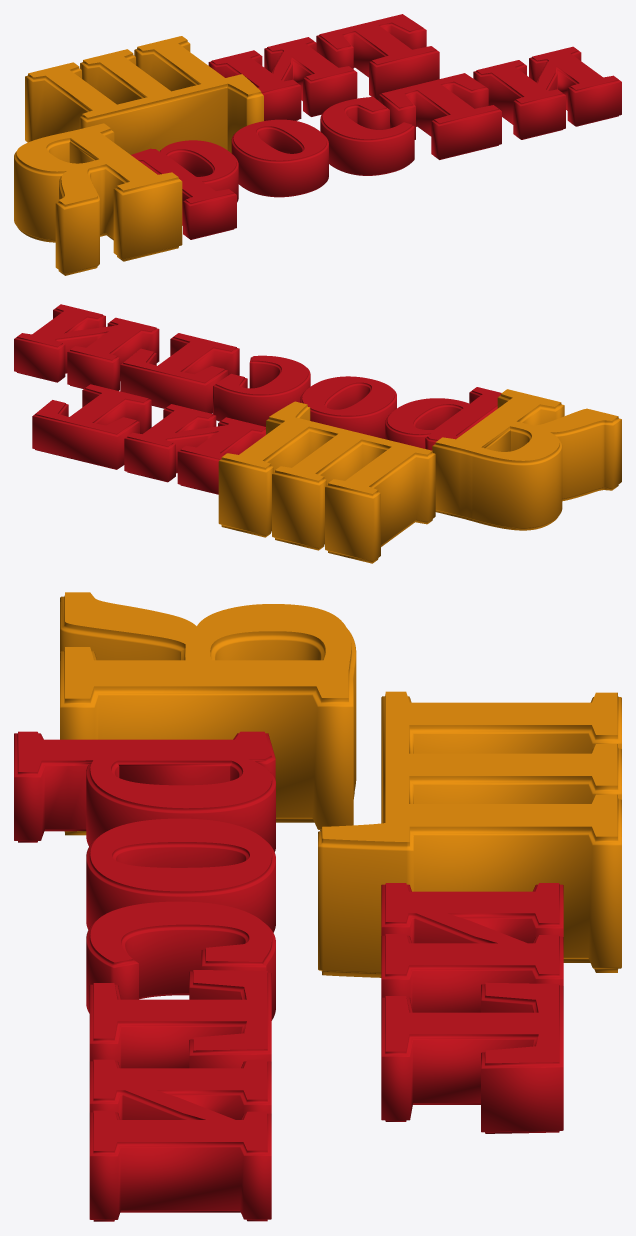
Rendered from shield_yar.glb.
3 views of the same model, one above another, from view 1: azimuth 30°, elevation 25°; view 2: azimuth 150°, elevation 25°; view 3: azimuth 270°, elevation 25° (orthographic). The views are drawn at different scales.
Visible parts, largest first — view 1: sh, ya, i2, i, t2, t, o, p, c; view 2: sh, ya, i2, i, t, t2, c, o, p; view 3: sh, ya, i2, p, t, i, o, t2, c.
Boxes of the visible parts, x1,y1,x2,y2 form: sh: [25, 36, 263, 154]; ya: [14, 123, 182, 275]; i2: [473, 46, 621, 139]; i: [208, 37, 357, 120]; t2: [378, 73, 501, 159]; t: [316, 14, 439, 100]; o: [231, 119, 328, 197]; p: [131, 140, 238, 239]; c: [320, 96, 414, 175]; sh: [218, 401, 435, 563]; ya: [432, 389, 621, 530]; i2: [14, 304, 159, 390]; i: [124, 404, 265, 494]; t: [32, 384, 151, 469]; t2: [120, 333, 239, 413]; c: [213, 355, 310, 426]; o: [300, 376, 396, 438]; p: [385, 387, 501, 450]; sh: [318, 691, 621, 977]; ya: [60, 592, 356, 835]; i2: [89, 1059, 271, 1221]; p: [14, 731, 275, 851]; t: [381, 982, 563, 1133]; i: [381, 883, 563, 1012]; o: [86, 818, 275, 932]; t2: [89, 970, 271, 1068]; c: [86, 901, 275, 1020].
Size of the model in its own units: 9.01 by 1.08 by 4.38.
